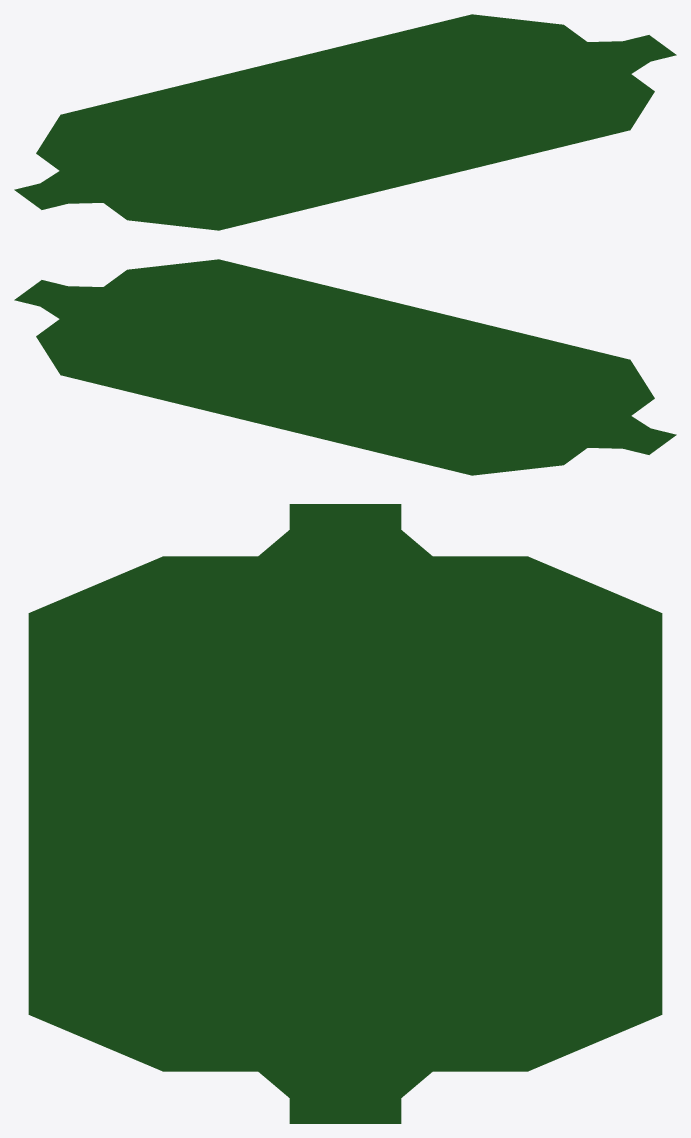
Rendered from ArenaGround.fbx.
3 views of the same model, one above another, from view 1: azimuth 30°, elevation 25°; view 2: azimuth 150°, elevation 25°; view 3: azimuth 270°, elevation 25° (orthographic). The views are drawn at different scales.
Parts seen in each view (by area): view 1: Ground; view 2: Ground; view 3: Ground.
Part boxes in pixels (bbox=[...]): Ground: bbox=[14, 14, 676, 230]; Ground: bbox=[14, 259, 676, 475]; Ground: bbox=[28, 504, 662, 1123].
Size of the model in its own units: 579 by 0 by 250.
